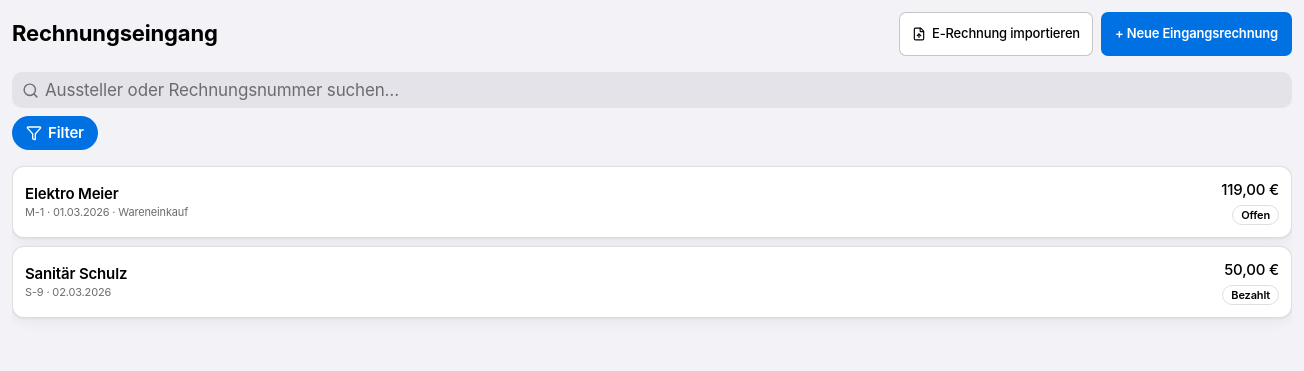
Test: RechnungseingangPage › Suche filtert über alle Spalten und zeigt bei null Treffern den Zurücksetzen-Weg
Expected: the text "Elektro Meier" is shown, [25,184,119,203]
Type "wareneinkauf" into the search field at point(664, 90), box [45,79,1282,101]
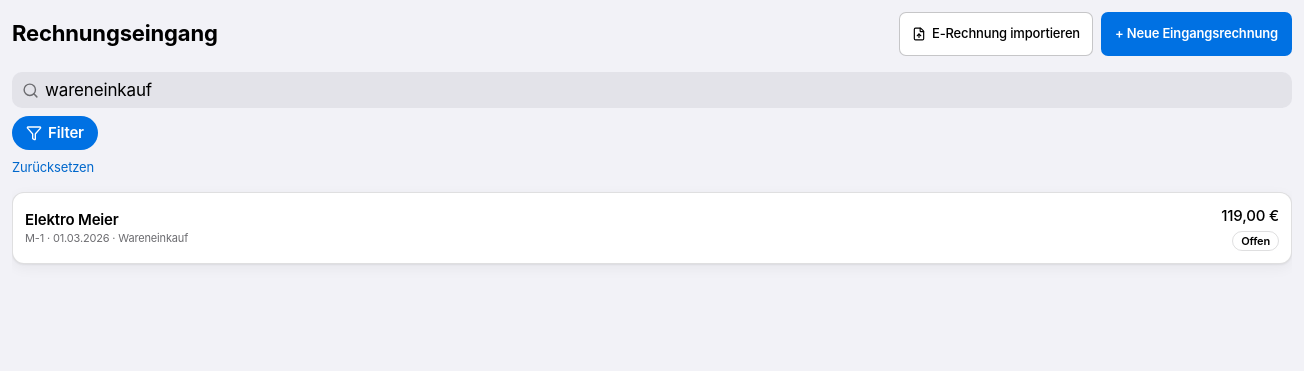
Expected: the text "Elektro Meier" is shown, [25,210,119,229]
Result: the button "Sanitär Schulz" is gone
Replace the text in the search field with "gibtsnicht" at point(664, 90), box [45,79,1282,101]
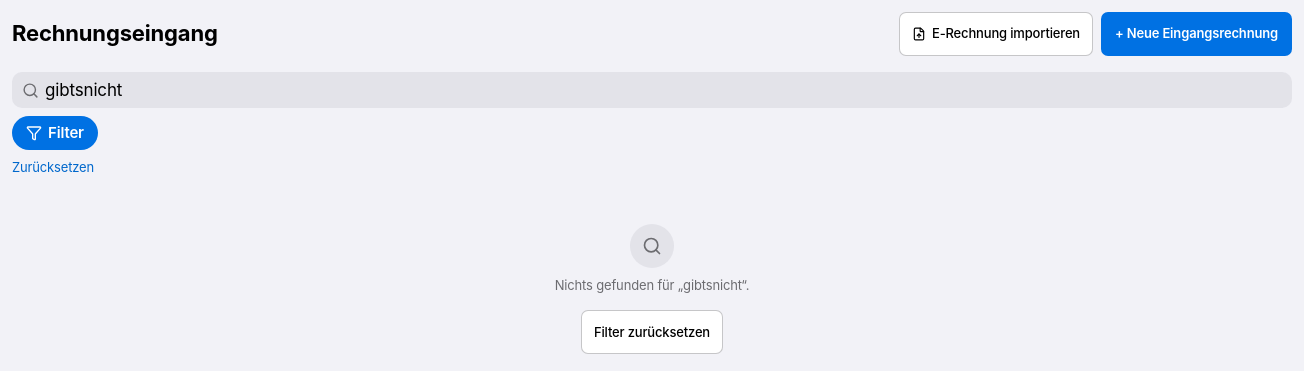
Result: the text "Nichts gefunden für „gibtsnicht“." is shown at [555,276,749,294]
Click the button "Filter zurücksetzen" at point(652, 332), box [581,310,723,354]
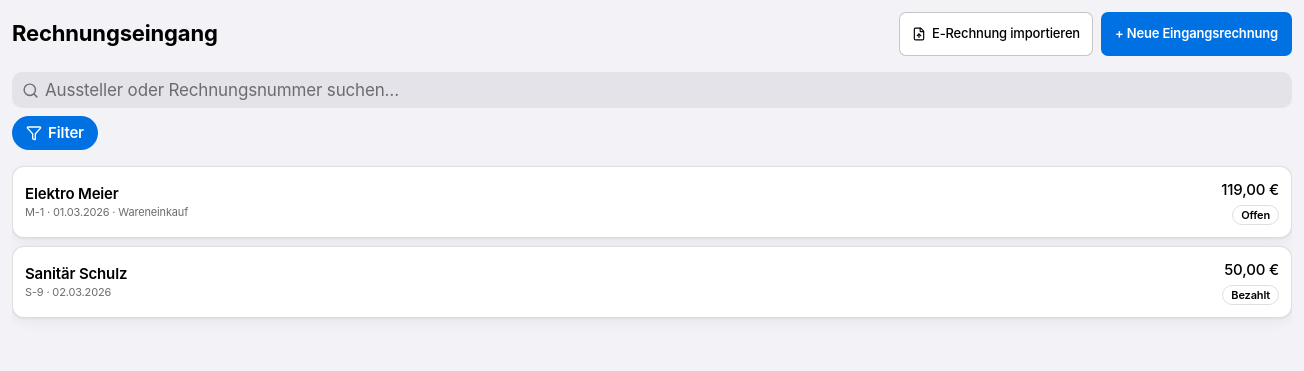
Result: the text "Sanitär Schulz" is shown at [25,263,127,285]
